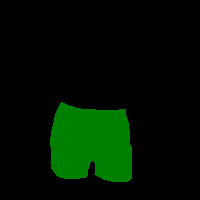mutande: (50, 101, 132, 182)
